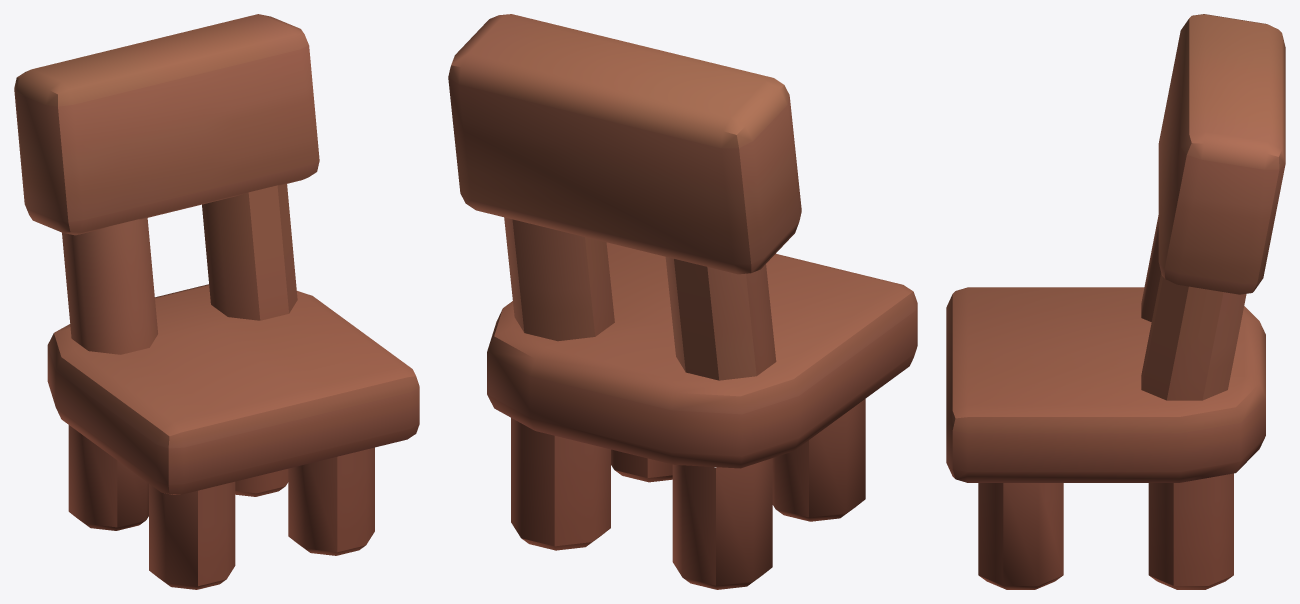
Rendered from kkr.chair_b.glb.
3 renders of one model, left to right at view 1: azimuth 30°, elevation 25°; view 2: azimuth 150°, elevation 25°; view 3: azimuth 270°, elevation 25°, orthographic. The views are drawn at different scales.
Parts seen in each view (by area): view 1: chair_B; view 2: chair_B; view 3: chair_B.
Part boxes in pixels (x1,y1,x2,y2): chair_B: [14, 14, 419, 589]; chair_B: [448, 14, 917, 589]; chair_B: [946, 14, 1285, 589].
Size of the model in its own units: 0.5587 by 0.9 by 0.5932.
Materials: 1 (1 with a texture image).
